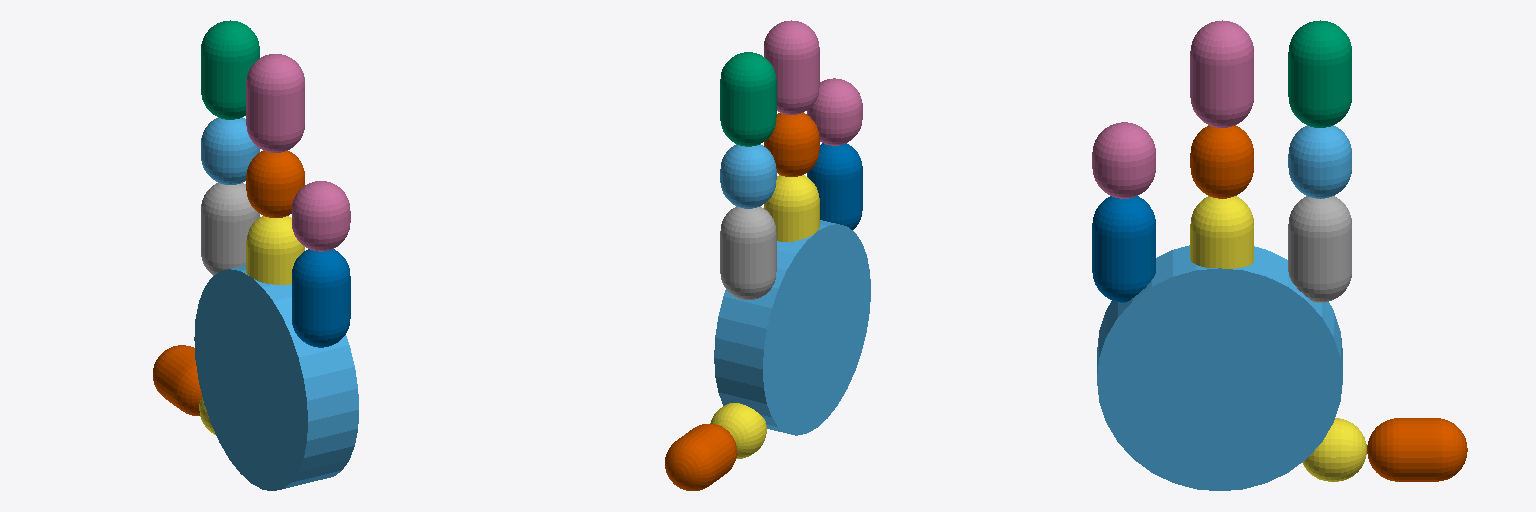
URDF robot description (DexterousHand):
<?xml version="1.0"?>
<robot name="DexterousHand">


    <link name="world"/>
    <joint name="world_to_palm" type="fixed">
        <parent link="world"/>
        <child link="palm"/>
        <origin xyz="0 0 0" rpy="0 0 0"/>
    </joint>
    <link name="palm">
        <inertial>
            <origin xyz="0 0 0.057" rpy="0 0 0"/>
            <mass value="0.30212892864"/>
            <inertia ixx="0.00049080844457568" ixy="0.0" ixz="0.0" iyy="0.00026746366246427523" iyz="0.0" izz="0.00026746366246427523"/>
        </inertial>
        <visual>
            <origin xyz="0 0 0.057" rpy="1.5708 0 1.5708"/>
            <geometry>
                <cylinder radius="0.057" length="0.0296"/>
            </geometry>
            <material name="default"/>
        </visual>
        <collision>
            <origin xyz="0 0 0.057" rpy="1.5708 0 1.5708"/>
            <geometry>
                <cylinder radius="0.057" length="0.0296"/>
            </geometry>
        </collision>
    </link>

    
    <joint name="thumb_joint1" type="revolute">
        <parent link="palm"/>
        <child link="thumb_base"/>
        <origin xyz="0.0029 0.0368 0.0157" rpy="-1.5708 -1.5708 0.0"/>
        <axis xyz="-1 0 0"/>
        <limit lower="-0.349" upper="2.094" effort="1.0" velocity="1.0"/>
    </joint>

    <link name="thumb_base"></link>

    <joint name="thumb_joint2" type="revolute">
        <parent link="thumb_base"/>
        <child link="thumb_proximal"/>
        <origin xyz="0.0 0.0 0.0" rpy="0.0 0.0 0.0"/>
        <axis xyz="0 0 1"/>
        <limit lower="-0.47" upper="2.443" effort="1.0" velocity="1.0"/>
    </joint>

    <link name="thumb_proximal">
        <inertial>
            <origin xyz="0 0 0.01565" rpy="0 0 0"/>
            <mass value="0.021538658803200002"/>
            <inertia ixx="2.9378910096388167e-06" ixy="0.0" ixz="0.0" 
            iyy="2.9378910096388167e-06" iyz="0.0" izz="2.358913912126464e-06"/>
        </inertial>
        <visual>
            <origin xyz="0 0 0.01565" rpy="0 0 0"/>
            <geometry>
                <cylinder radius="0.0148" length="0.0017000000000000001"/>
            </geometry>
            <material name="default"/>
        </visual>
        <visual>
            <origin xyz="0 0 0.0148" rpy="0 0 0"/>
            <geometry>
                <sphere radius="0.0148"/>
            </geometry>
            <material name="default"/>
        </visual>
        <visual>
            <origin xyz="0 0 0.0165" rpy="0 0 0"/>
            <geometry>
                <sphere radius="0.0148"/>
            </geometry>
            <material name="default"/>
        </visual>
        <collision>
            <origin xyz="0 0 0.01565" rpy="0 0 0"/>
            <geometry>
                <cylinder radius="0.0148" length="0.0017000000000000001"/>
            </geometry>
        </collision>
        <collision>
            <origin xyz="0 0 0.0148" rpy="0 0 0"/>
            <geometry>
                <sphere radius="0.0148"/>
            </geometry>
        </collision>
        <collision>
            <origin xyz="0 0 0.0165" rpy="0 0 0"/>
            <geometry>
                <sphere radius="0.0148"/>
            </geometry>
        </collision>
    </link>

    <joint name="thumb_joint3" type="revolute">
        <parent link="thumb_proximal"/>
        <child link="thumb_knuckle"/>
        <origin xyz="0.0 0.0 0.0313" rpy="0.0 0.0 0.0"/>
        <axis xyz="1 0 0"/>
        <limit lower="0.0" upper="0.0" effort="1.0" velocity="1.0"/>
    </joint>

    <link name="thumb_knuckle"></link>

    <joint name="thumb_joint4" type="revolute">
        <parent link="thumb_knuckle"/>
        <child link="thumb_middle"/>
        <origin xyz="0 0 0" rpy="0 0 0"/> 
        <axis xyz="0 1 0"/>
        <limit lower="-1.2" upper="1.9" effort="1.0" velocity="1.0"/>
    </joint>

    <link name="thumb_middle">
        <inertial>
            <origin xyz="0 0 0.0233" rpy="0 0 0"/>
            <mass value="0.032067140582400004"/>
            <inertia ixx="7.5589732685519385e-06" ixy="0.0" ixz="0.0" 
            iyy="7.5589732685519385e-06" iyz="0.0" izz="3.5119932365844485e-06"/>
        </inertial>
        <visual>
            <origin xyz="0 0 0.0233" rpy="0 0 0"/>
            <geometry>
                <cylinder radius="0.0148" length="0.017"/>
            </geometry>
            <material name="default"/>
        </visual>
        <visual>
            <origin xyz="0 0 0.0148" rpy="0 0 0"/>
            <geometry>
                <sphere radius="0.0148"/>
            </geometry>
            <material name="default"/>
        </visual>
        <visual>
            <origin xyz="0 0 0.0318" rpy="0 0 0"/>
            <geometry>
                <sphere radius="0.0148"/>
            </geometry>
            <material name="default"/>
        </visual>
        <collision>
            <origin xyz="0 0 0.0233" rpy="0 0 0"/>
            <geometry>
                <cylinder radius="0.0148" length="0.017"/>
            </geometry>
        </collision>
        <collision>
            <origin xyz="0 0 0.0148" rpy="0 0 0"/>
            <geometry>
                <sphere radius="0.0148"/>
            </geometry>
        </collision>
        <collision>
            <origin xyz="0 0 0.0318" rpy="0 0 0"/>
            <geometry>
                <sphere radius="0.0148"/>
            </geometry>
        </collision>
    </link>

    <joint name="thumb_joint5" type="revolute">
        <parent link="thumb_middle"/>
        <child link="thumb_distal"/>
        <origin xyz="0 0 0.0466" rpy="0 0 0"/> 
        <axis xyz="0 1 0"/>
        <limit lower="0.0" upper="0.0" effort="1.0" velocity="1.0"/>
    </joint>

    <link name="thumb_distal">
    </link>

    
    <joint name="index_joint1" type="revolute">
        <parent link="palm"/>
        <child link="index_proximal"/>
        <origin xyz="0.0 0.0465 0.091" rpy="0.0 0.0 0.0"/>
        <axis xyz="0 1 0"/>
        <limit lower="-0.314" upper="2.23" effort="1.0" velocity="1.0"/>
    </joint>

    <link name="index_proximal">
        <inertial>
            <origin xyz="0 0 0.02655" rpy="0 0 0"/>
            <mass value="0.036540024998400006"/>
            <inertia ixx="1.058665009272394e-05" ixy="0.0" ixz="0.0" 
            iyy="1.058665009272394e-05" iyz="0.0" izz="4.001863537824769e-06"/>
        </inertial>
        <visual>
            <origin xyz="0 0 0.02655" rpy="0 0 0"/>
            <geometry>
                <cylinder radius="0.0148" length="0.0235"/>
            </geometry>
            <material name="default"/>
        </visual>
        <visual>
            <origin xyz="0 0 0.0148" rpy="0 0 0"/>
            <geometry>
                <sphere radius="0.0148"/>
            </geometry>
            <material name="default"/>
        </visual>
        <visual>
            <origin xyz="0 0 0.0383" rpy="0 0 0"/>
            <geometry>
                <sphere radius="0.0148"/>
            </geometry>
            <material name="default"/>
        </visual>
        <collision>
            <origin xyz="0 0 0.02655" rpy="0 0 0"/>
            <geometry>
                <cylinder radius="0.0148" length="0.0235"/>
            </geometry>
        </collision>
        <collision>
            <origin xyz="0 0 0.0148" rpy="0 0 0"/>
            <geometry>
                <sphere radius="0.0148"/>
            </geometry>
        </collision>
        <collision>
            <origin xyz="0 0 0.0383" rpy="0 0 0"/>
            <geometry>
                <sphere radius="0.0148"/>
            </geometry>
        </collision>
    </link>

    <joint name="index_joint2" type="revolute">
        <parent link="index_proximal"/>
        <child link="index_dummy"/>
        <origin xyz="0.0 0.0 0.038" rpy="0.0 0.0 0.0"/>
        <axis xyz="1 0 0"/>
        <limit lower="-1.047" upper="1.047" effort="1.0" velocity="1.0"/>
    </joint>

    <link name="index_dummy"></link>

    <joint name="index_joint3" type="revolute">
        <parent link="index_dummy"/>
        <child link="index_middle"/>
        <origin xyz="0 0 0.015100000000000002" rpy="0 0 0"/>
        <axis xyz="0 1 0"/>
        <limit lower="-0.506" upper="1.885" effort="1.0" velocity="1.0"/>
    </joint>

    <link name="index_middle">
        <inertial>
            <origin xyz="0 0 0.01805" rpy="0 0 0"/>
            <mass value="0.0248417119104"/>
            <inertia ixx="4.058162759109537e-06" ixy="0.0" ixz="0.0" 
            iyy="4.058162759109537e-06" iyz="0.0" izz="2.7206642884270085e-06"/>
        </inertial>
        <visual>
            <origin xyz="0 0 0.01805" rpy="0 0 0"/>
            <geometry>
                <cylinder radius="0.0148" length="0.006499999999999999"/>
            </geometry>
            <material name="default"/>
        </visual>
        <visual>
            <origin xyz="0 0 0.0148" rpy="0 0 0"/>
            <geometry>
                <sphere radius="0.0148"/>
            </geometry>
            <material name="default"/>
        </visual>
        <visual>
            <origin xyz="0 0 0.0213" rpy="0 0 0"/>
            <geometry>
                <sphere radius="0.0148"/>
            </geometry>
            <material name="default"/>
        </visual>
        <collision>
            <origin xyz="0 0 0.01805" rpy="0 0 0"/>
            <geometry>
                <cylinder radius="0.0148" length="0.006499999999999999"/>
            </geometry>
        </collision>
        <collision>
            <origin xyz="0 0 0.0148" rpy="0 0 0"/>
            <geometry>
                <sphere radius="0.0148"/>
            </geometry>
        </collision>
        <collision>
            <origin xyz="0 0 0.0213" rpy="0 0 0"/>
            <geometry>
                <sphere radius="0.0148"/>
            </geometry>
        </collision>
    </link>

    <joint name="index_joint4" type="revolute">
        <parent link="index_middle"/>
        <child link="index_distal"/>
        <origin xyz="0 0 0.0361" rpy="0 0 0"/> 
        <axis xyz="0 1 0"/>
        <limit lower="-0.366" upper="2.042" effort="1.0" velocity="1.0"/>
    </joint>

    <link name="index_distal">
        <inertial>
            <origin xyz="0 0 0.026" rpy="0 0 0"/>
            <mass value="0.035783075328"/>
            <inertia ixx="1.002260084553728e-05" ixy="0.0" ixz="0.0" 
            iyy="1.002260084553728e-05" iyz="0.0" izz="3.91896240992256e-06"/>
        </inertial>
        <visual>
            <origin xyz="0 0 0.026" rpy="0 0 0"/>
            <geometry>
                <cylinder radius="0.0148" length="0.022399999999999996"/>
            </geometry>
            <material name="default"/>
        </visual>
        <visual>
            <origin xyz="0 0 0.0148" rpy="0 0 0"/>
            <geometry>
                <sphere radius="0.0148"/>
            </geometry>
            <material name="default"/>
        </visual>
        <visual>
            <origin xyz="0 0 0.0372" rpy="0 0 0"/>
            <geometry>
                <sphere radius="0.0148"/>
            </geometry>
            <material name="default"/>
        </visual>
        <collision>
            <origin xyz="0 0 0.026" rpy="0 0 0"/>
            <geometry>
                <cylinder radius="0.0148" length="0.022399999999999996"/>
            </geometry>
        </collision>
        <collision>
            <origin xyz="0 0 0.0148" rpy="0 0 0"/>
            <geometry>
                <sphere radius="0.0148"/>
            </geometry>
        </collision>
        <collision>
            <origin xyz="0 0 0.0372" rpy="0 0 0"/>
            <geometry>
                <sphere radius="0.0148"/>
            </geometry>
        </collision>
    </link>

    
    <joint name="middle_joint1" type="revolute">
        <parent link="palm"/>
        <child link="middle_proximal"/>
        <origin xyz="0.0 0.0011 0.091" rpy="0.0 0.0 0.0"/>
        <axis xyz="0 1 0"/>
        <limit lower="-0.314" upper="2.23" effort="1.0" velocity="1.0"/>
    </joint>

    <link name="middle_proximal">
        <inertial>
            <origin xyz="0 0 0.02655" rpy="0 0 0"/>
            <mass value="0.036540024998400006"/>
            <inertia ixx="1.058665009272394e-05" ixy="0.0" ixz="0.0" 
            iyy="1.058665009272394e-05" iyz="0.0" izz="4.001863537824769e-06"/>
        </inertial>
        <visual>
            <origin xyz="0 0 0.02655" rpy="0 0 0"/>
            <geometry>
                <cylinder radius="0.0148" length="0.0235"/>
            </geometry>
            <material name="default"/>
        </visual>
        <visual>
            <origin xyz="0 0 0.0148" rpy="0 0 0"/>
            <geometry>
                <sphere radius="0.0148"/>
            </geometry>
            <material name="default"/>
        </visual>
        <visual>
            <origin xyz="0 0 0.0383" rpy="0 0 0"/>
            <geometry>
                <sphere radius="0.0148"/>
            </geometry>
            <material name="default"/>
        </visual>
        <collision>
            <origin xyz="0 0 0.02655" rpy="0 0 0"/>
            <geometry>
                <cylinder radius="0.0148" length="0.0235"/>
            </geometry>
        </collision>
        <collision>
            <origin xyz="0 0 0.0148" rpy="0 0 0"/>
            <geometry>
                <sphere radius="0.0148"/>
            </geometry>
        </collision>
        <collision>
            <origin xyz="0 0 0.0383" rpy="0 0 0"/>
            <geometry>
                <sphere radius="0.0148"/>
            </geometry>
        </collision>
    </link>

    <joint name="middle_joint2" type="revolute">
        <parent link="middle_proximal"/>
        <child link="middle_dummy"/>
        <origin xyz="0.0 0.0 0.038" rpy="0.0 0.0 0.0"/>
        <axis xyz="1 0 0"/>
        <limit lower="-1.047" upper="1.047" effort="1.0" velocity="1.0"/>
    </joint>

    <link name="middle_dummy"></link>

    <joint name="middle_joint3" type="revolute">
        <parent link="middle_dummy"/>
        <child link="middle_middle"/>
        <origin xyz="0 0 0.015100000000000002" rpy="0 0 0"/>
        <axis xyz="0 1 0"/>
        <limit lower="-0.506" upper="1.885" effort="1.0" velocity="1.0"/>
    </joint>

    <link name="middle_middle">
        <inertial>
            <origin xyz="0 0 0.01805" rpy="0 0 0"/>
            <mass value="0.0248417119104"/>
            <inertia ixx="4.058162759109537e-06" ixy="0.0" ixz="0.0" 
            iyy="4.058162759109537e-06" iyz="0.0" izz="2.7206642884270085e-06"/>
        </inertial>
        <visual>
            <origin xyz="0 0 0.01805" rpy="0 0 0"/>
            <geometry>
                <cylinder radius="0.0148" length="0.006499999999999999"/>
            </geometry>
            <material name="default"/>
        </visual>
        <visual>
            <origin xyz="0 0 0.0148" rpy="0 0 0"/>
            <geometry>
                <sphere radius="0.0148"/>
            </geometry>
            <material name="default"/>
        </visual>
        <visual>
            <origin xyz="0 0 0.0213" rpy="0 0 0"/>
            <geometry>
                <sphere radius="0.0148"/>
            </geometry>
            <material name="default"/>
        </visual>
        <collision>
            <origin xyz="0 0 0.01805" rpy="0 0 0"/>
            <geometry>
                <cylinder radius="0.0148" length="0.006499999999999999"/>
            </geometry>
        </collision>
        <collision>
            <origin xyz="0 0 0.0148" rpy="0 0 0"/>
            <geometry>
                <sphere radius="0.0148"/>
            </geometry>
        </collision>
        <collision>
            <origin xyz="0 0 0.0213" rpy="0 0 0"/>
            <geometry>
                <sphere radius="0.0148"/>
            </geometry>
        </collision>
    </link>

    <joint name="middle_joint4" type="revolute">
        <parent link="middle_middle"/>
        <child link="middle_distal"/>
        <origin xyz="0 0 0.0361" rpy="0 0 0"/> 
        <axis xyz="0 1 0"/>
        <limit lower="-0.366" upper="2.042" effort="1.0" velocity="1.0"/>
    </joint>

    <link name="middle_distal">
        <inertial>
            <origin xyz="0 0 0.026" rpy="0 0 0"/>
            <mass value="0.035783075328"/>
            <inertia ixx="1.002260084553728e-05" ixy="0.0" ixz="0.0" 
            iyy="1.002260084553728e-05" iyz="0.0" izz="3.91896240992256e-06"/>
        </inertial>
        <visual>
            <origin xyz="0 0 0.026" rpy="0 0 0"/>
            <geometry>
                <cylinder radius="0.0148" length="0.022399999999999996"/>
            </geometry>
            <material name="default"/>
        </visual>
        <visual>
            <origin xyz="0 0 0.0148" rpy="0 0 0"/>
            <geometry>
                <sphere radius="0.0148"/>
            </geometry>
            <material name="default"/>
        </visual>
        <visual>
            <origin xyz="0 0 0.0372" rpy="0 0 0"/>
            <geometry>
                <sphere radius="0.0148"/>
            </geometry>
            <material name="default"/>
        </visual>
        <collision>
            <origin xyz="0 0 0.026" rpy="0 0 0"/>
            <geometry>
                <cylinder radius="0.0148" length="0.022399999999999996"/>
            </geometry>
        </collision>
        <collision>
            <origin xyz="0 0 0.0148" rpy="0 0 0"/>
            <geometry>
                <sphere radius="0.0148"/>
            </geometry>
        </collision>
        <collision>
            <origin xyz="0 0 0.0372" rpy="0 0 0"/>
            <geometry>
                <sphere radius="0.0148"/>
            </geometry>
        </collision>
    </link>

    
    <joint name="ring_joint1" type="revolute">
        <parent link="palm"/>
        <child link="ring_proximal"/>
        <origin xyz="0.0 0.0 0.0" rpy="0.0 0.0 0.0"/>
        <axis xyz="1 0 0"/>
        <limit lower="0.0" upper="0.0" effort="1.0" velocity="1.0"/>
    </joint>

    <link name="ring_proximal">
    </link>

    <joint name="ring_joint2" type="revolute">
        <parent link="ring_proximal"/>
        <child link="ring_dummy"/>
        <origin xyz="0.0 0.0 0.0" rpy="0.0 0.0 0.0"/>
        <axis xyz="0 1 0"/>
        <limit lower="0.0" upper="0.0" effort="1.0" velocity="1.0"/>
    </joint>

    <link name="ring_dummy"></link>

    <joint name="ring_joint3" type="revolute">
        <parent link="ring_dummy"/>
        <child link="ring_middle"/>
        <origin xyz="0 0 0" rpy="0 0 0"/>
        <axis xyz="0 1 0"/>
        <limit lower="0.0" upper="0.0" effort="1.0" velocity="1.0"/>
    </joint>

    <link name="ring_middle">
    </link>

    <joint name="ring_joint4" type="revolute">
        <parent link="ring_middle"/>
        <child link="ring_distal"/>
        <origin xyz="0 0 0" rpy="0 0 0"/> 
        <axis xyz="0 1 0"/>
        <limit lower="0.0" upper="0.0" effort="1.0" velocity="1.0"/>
    </joint>

    <link name="ring_distal">
    </link>

    
    <joint name="little_joint0" type="revolute">
        <parent link="palm"/>
        <child link="little_base"/>
        <origin xyz="0.0 0.0 0.0" rpy="0.0 0.0 0.0"/>
        <axis xyz="0 1 0"/>
        <limit lower="0.0" upper="0.0" effort="1.0" velocity="1.0"/>
    </joint>

    <link name="little_base"></link>

    <joint name="little_joint1" type="revolute">
        <parent link="little_base"/>
        <child link="little_proximal"/>
        <origin xyz="0.0 -0.0443 0.091" rpy="-0.0 -0.0 -0.0"/>
        <axis xyz="0 1 0"/>
        <limit lower="-0.314" upper="2.23" effort="1.0" velocity="1.0"/>
    </joint>

    <link name="little_proximal">
        <inertial>
            <origin xyz="0 0 0.02655" rpy="0 0 0"/>
            <mass value="0.036540024998400006"/>
            <inertia ixx="1.058665009272394e-05" ixy="0.0" ixz="0.0" 
            iyy="1.058665009272394e-05" iyz="0.0" izz="4.001863537824769e-06"/>
        </inertial>
        <visual>
            <origin xyz="0 0 0.02655" rpy="0 0 0"/>
            <geometry>
                <cylinder radius="0.0148" length="0.0235"/>
            </geometry>
            <material name="default"/>
        </visual>
        <visual>
            <origin xyz="0 0 0.0148" rpy="0 0 0"/>
            <geometry>
                <sphere radius="0.0148"/>
            </geometry>
            <material name="default"/>
        </visual>
        <visual>
            <origin xyz="0 0 0.0383" rpy="0 0 0"/>
            <geometry>
                <sphere radius="0.0148"/>
            </geometry>
            <material name="default"/>
        </visual>
        <collision>
            <origin xyz="0 0 0.02655" rpy="0 0 0"/>
            <geometry>
                <cylinder radius="0.0148" length="0.0235"/>
            </geometry>
        </collision>
        <collision>
            <origin xyz="0 0 0.0148" rpy="0 0 0"/>
            <geometry>
                <sphere radius="0.0148"/>
            </geometry>
        </collision>
        <collision>
            <origin xyz="0 0 0.0383" rpy="0 0 0"/>
            <geometry>
                <sphere radius="0.0148"/>
            </geometry>
        </collision>
    </link>

    <joint name="little_joint2" type="revolute">
        <parent link="little_proximal"/>
        <child link="little_dummy"/>
        <origin xyz="0.0 0.0 0.038" rpy="0.0 0.0 0.0"/>
        <axis xyz="1 0 0"/>
        <limit lower="-1.047" upper="1.047" effort="1.0" velocity="1.0"/>
    </joint>

    <link name="little_dummy"></link>

    <joint name="little_joint3" type="revolute">
        <parent link="little_dummy"/>
        <child link="little_middle"/>
        <origin xyz="0 0 0.015100000000000002" rpy="0 0 0"/>
        <axis xyz="0 1 0"/>
        <limit lower="-0.506" upper="1.885" effort="1.0" velocity="1.0"/>
    </joint>

    <link name="little_middle">
        <inertial>
            <origin xyz="0 0 0.01805" rpy="0 0 0"/>
            <mass value="0.0248417119104"/>
            <inertia ixx="4.058162759109537e-06" ixy="0.0" ixz="0.0" 
            iyy="4.058162759109537e-06" iyz="0.0" izz="2.7206642884270085e-06"/>
        </inertial>
        <visual>
            <origin xyz="0 0 0.01805" rpy="0 0 0"/>
            <geometry>
                <cylinder radius="0.0148" length="0.006499999999999999"/>
            </geometry>
            <material name="default"/>
        </visual>
        <visual>
            <origin xyz="0 0 0.0148" rpy="0 0 0"/>
            <geometry>
                <sphere radius="0.0148"/>
            </geometry>
            <material name="default"/>
        </visual>
        <visual>
            <origin xyz="0 0 0.0213" rpy="0 0 0"/>
            <geometry>
                <sphere radius="0.0148"/>
            </geometry>
            <material name="default"/>
        </visual>
        <collision>
            <origin xyz="0 0 0.01805" rpy="0 0 0"/>
            <geometry>
                <cylinder radius="0.0148" length="0.006499999999999999"/>
            </geometry>
        </collision>
        <collision>
            <origin xyz="0 0 0.0148" rpy="0 0 0"/>
            <geometry>
                <sphere radius="0.0148"/>
            </geometry>
        </collision>
        <collision>
            <origin xyz="0 0 0.0213" rpy="0 0 0"/>
            <geometry>
                <sphere radius="0.0148"/>
            </geometry>
        </collision>
    </link>

    <joint name="little_joint4" type="revolute">
        <parent link="little_middle"/>
        <child link="little_distal"/>
        <origin xyz="0 0 0.0361" rpy="0 0 0"/>
        <axis xyz="0 1 0"/>
        <limit lower="0.0" upper="0.0" effort="1.0" velocity="1.0"/>
    </joint>

    <link name="little_distal">
    </link>

</robot>

--- Facts derived from the render (not from the file) ---
Views: 3 orthographic renders of the robot side by side, from view 1: azimuth 30°, elevation 25°; view 2: azimuth 150°, elevation 25°; view 3: azimuth 270°, elevation 25°.
Model DexterousHand with 24 links and 23 joints (22 revolute, 1 fixed), rooted at world, posed every joint at zero.
Links seen in each view (by area): view 1: palm, little_proximal, middle_distal, index_distal, index_proximal, little_middle, middle_middle, middle_proximal, index_middle, thumb_middle; view 2: palm, index_proximal, index_distal, middle_distal, thumb_middle, little_proximal, index_middle, middle_proximal, little_middle, middle_middle, thumb_proximal; view 3: palm, middle_distal, index_distal, index_proximal, little_proximal, thumb_middle, middle_proximal, little_middle, middle_middle, index_middle, thumb_proximal.
Link boxes in pixels (x1,y1,x2,y2): palm: (194,265,358,490); little_proximal: (292,249,350,347); middle_distal: (246,54,304,152); index_distal: (201,20,259,119); index_proximal: (201,183,259,275); little_middle: (292,181,350,251); middle_middle: (246,151,304,217); middle_proximal: (246,216,304,284); index_middle: (201,117,259,184); thumb_middle: (153,345,201,415); palm: (714,220,870,435); index_proximal: (720,206,776,299); index_distal: (720,52,776,146); middle_distal: (764,20,819,114); thumb_middle: (665,424,736,490); little_proximal: (807,143,862,229); index_middle: (720,144,776,208); middle_proximal: (764,175,819,241); little_middle: (807,78,862,145); middle_middle: (764,113,819,176); thumb_proximal: (710,403,766,458); palm: (1097,245,1342,490); middle_distal: (1190,20,1253,127); index_distal: (1288,20,1351,127); index_proximal: (1288,196,1351,302); little_proximal: (1092,196,1155,302); thumb_middle: (1367,418,1467,481); middle_proximal: (1190,196,1253,268); little_middle: (1092,122,1155,198); middle_middle: (1190,125,1253,198); index_middle: (1288,125,1351,198); thumb_proximal: (1302,418,1366,481).
Bounding box of the posed robot: 0.0325 × 0.1738 × 0.2322 m (x, y, z).
Geometry: primitives only (box / cylinder / sphere), no mesh files.
